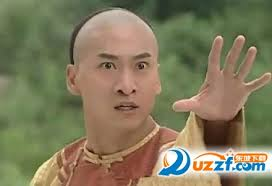hand: (170, 34, 272, 121)
